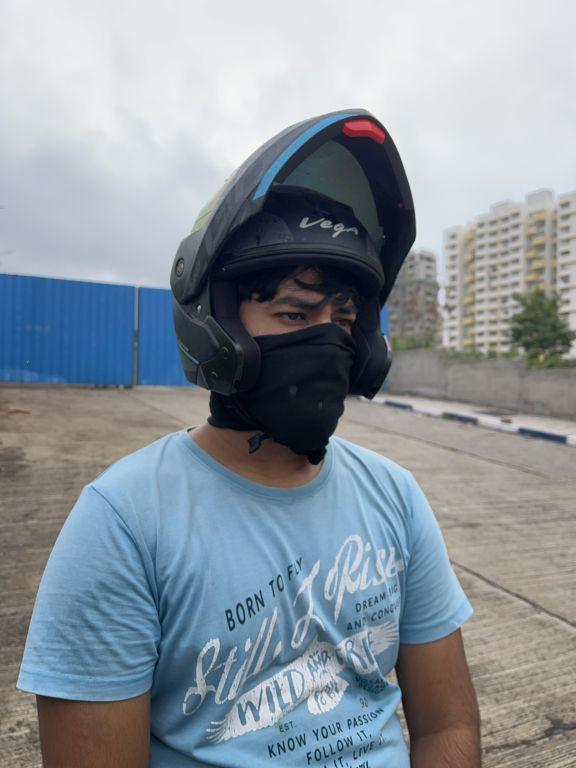helmet: (162, 94, 420, 478)
